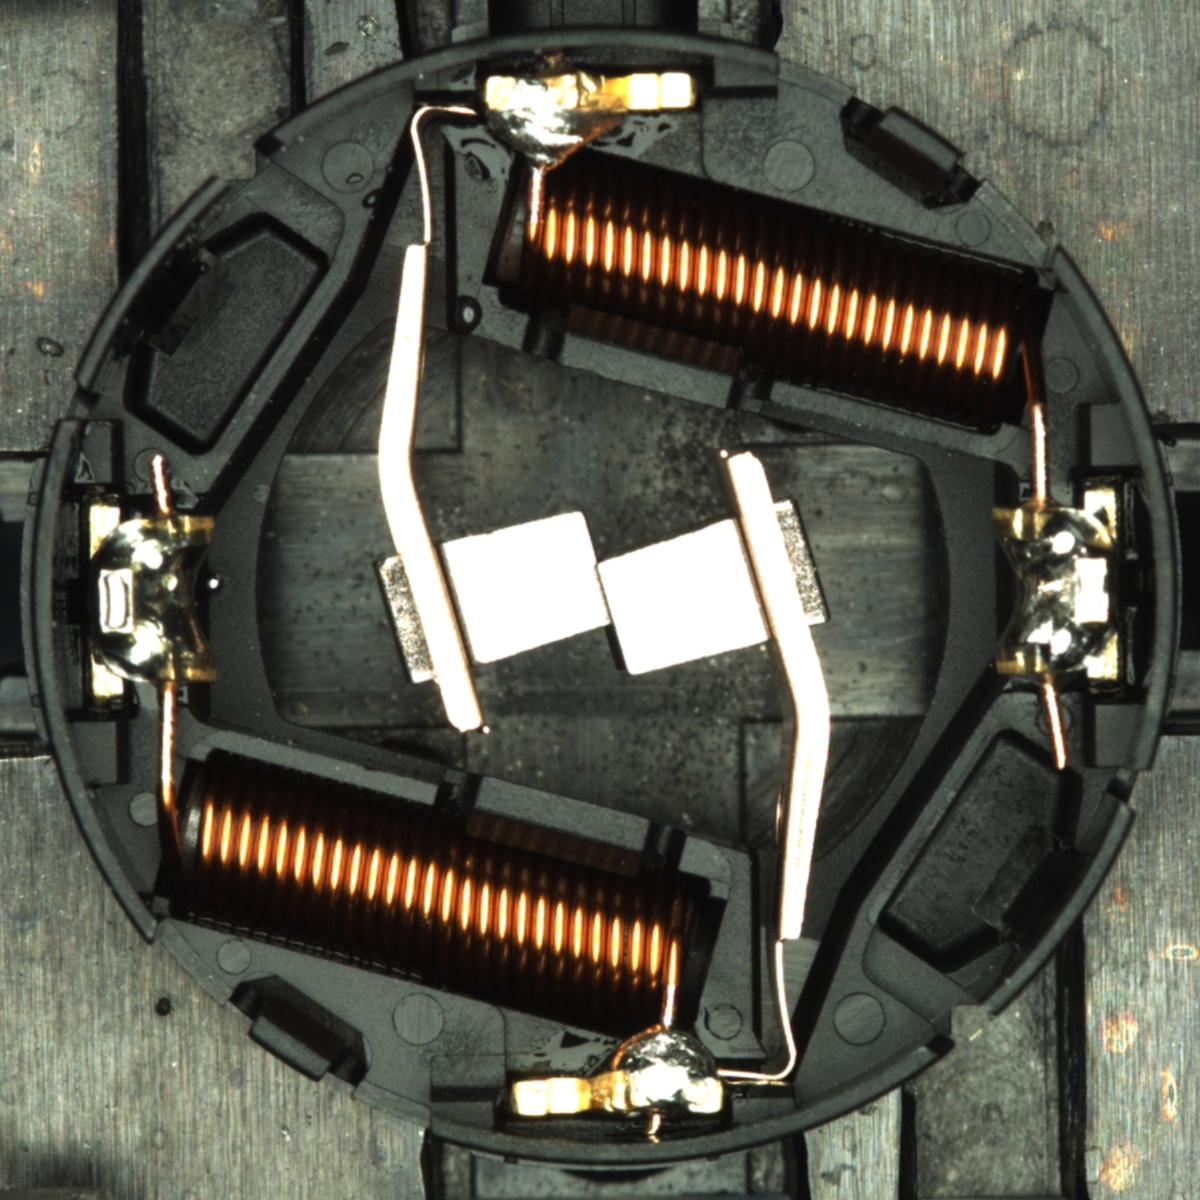1: (256, 31, 486, 255), (714, 929, 944, 1153)
2: (714, 31, 944, 255), (256, 929, 486, 1153)
3: (944, 703, 1173, 929), (27, 255, 256, 479)
4: (714, 703, 944, 929), (256, 255, 486, 479)
5: (486, 815, 714, 1041), (486, 143, 714, 367)
6: (256, 703, 486, 929), (714, 255, 944, 479)
7: (27, 703, 256, 929), (944, 255, 1173, 479)
bui_chi: (203, 573, 223, 593)
cacbon: (405, 497, 795, 686)
chau_dien: (984, 487, 1125, 687), (82, 498, 222, 700)
tay_choi: (482, 70, 699, 173), (511, 1021, 724, 1119)
thanh_de: (956, 787, 1143, 1032), (60, 163, 245, 408)
